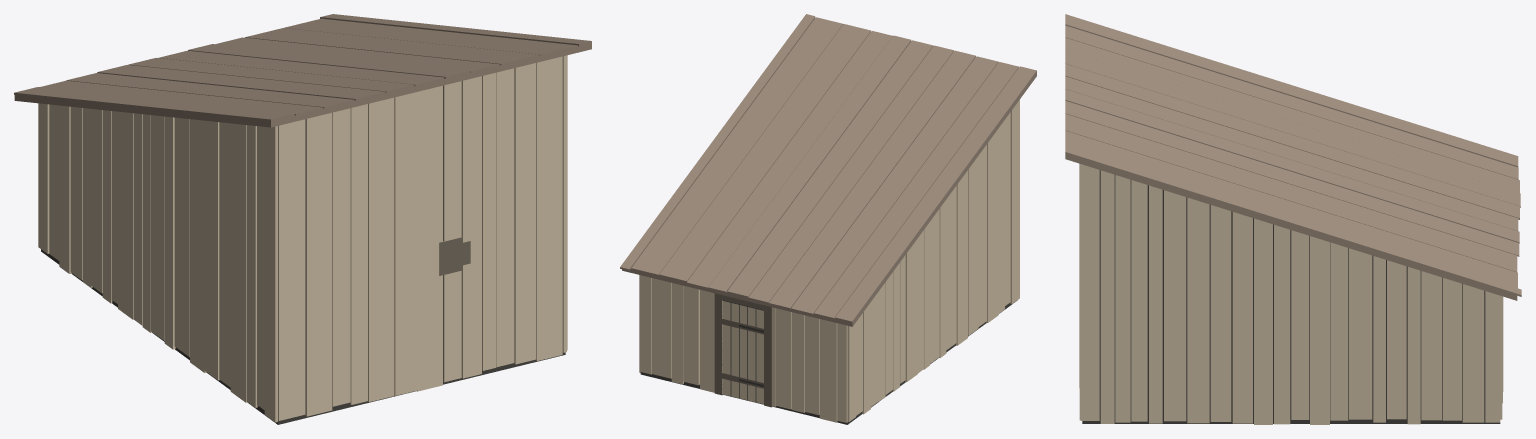
File: recon_1835_west_015__inferred_1835.glb
3 renders of one model, left to right at view 1: azimuth 30°, elevation 25°; view 2: azimuth 150°, elevation 25°; view 3: azimuth 270°, elevation 25°, orthographic. The views are drawn at different scales.
Parts seen in each view (by area): view 1: recon_1835_west_015__inferred_1835; view 2: recon_1835_west_015__inferred_1835; view 3: recon_1835_west_015__inferred_1835.
Part boxes in pixels (bbox=[...]): recon_1835_west_015__inferred_1835: bbox=[14, 14, 591, 424]; recon_1835_west_015__inferred_1835: bbox=[620, 14, 1036, 424]; recon_1835_west_015__inferred_1835: bbox=[1065, 14, 1521, 424].
Size of the model in its own units: 4.76 by 4.49 by 6.66.
